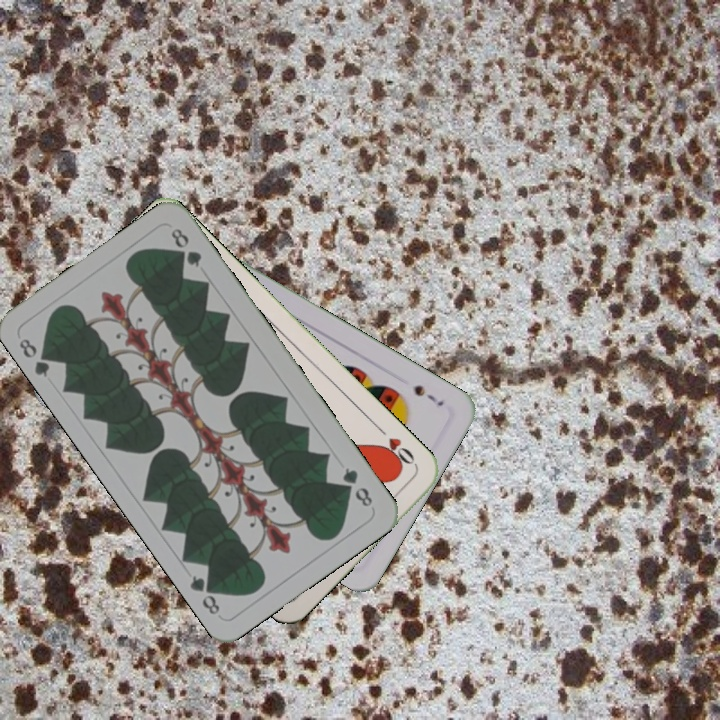G8: (15, 334, 57, 380), (338, 463, 376, 510)
HO: (373, 422, 419, 471)
S7: (410, 380, 447, 409)
